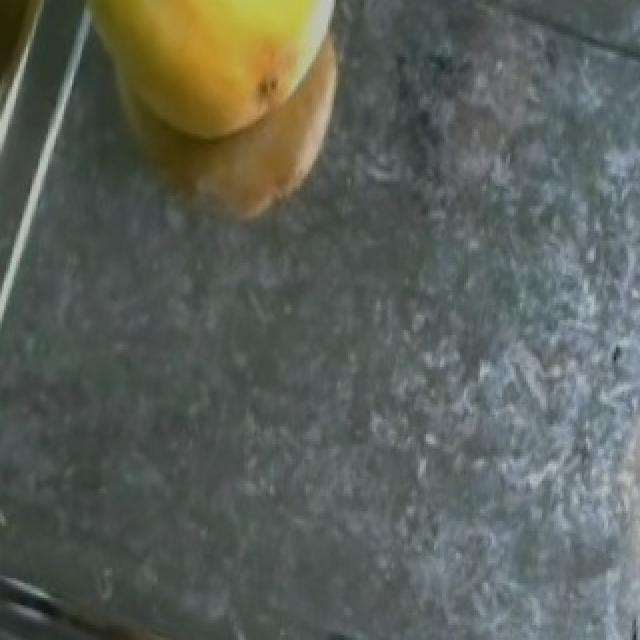fruit: (52, 0, 396, 176)
